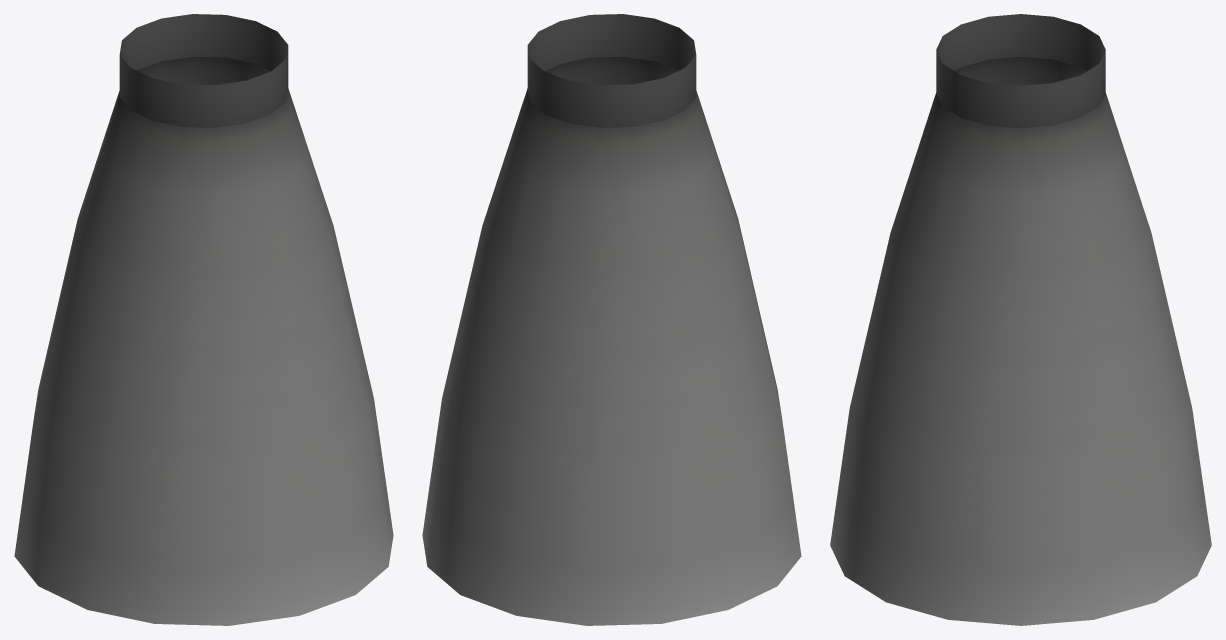
The model's file is ALV_3_Engine_1_Vernier.obj.
3 renders of one model, left to right at view 1: azimuth 30°, elevation 25°; view 2: azimuth 150°, elevation 25°; view 3: azimuth 270°, elevation 25°, orthographic.
Parts seen in each view (by area): view 1: ALV_3_Engine_1_Vernier; view 2: ALV_3_Engine_1_Vernier; view 3: ALV_3_Engine_1_Vernier.
Part boxes in pixels (x1=…): ALV_3_Engine_1_Vernier: x1=14, y1=14, x2=393, y2=625; ALV_3_Engine_1_Vernier: x1=422, y1=14, x2=801, y2=625; ALV_3_Engine_1_Vernier: x1=830, y1=14, x2=1211, y2=625.
Bounding box in the file's own units: 0.2025 × 0.29 × 0.2025.
